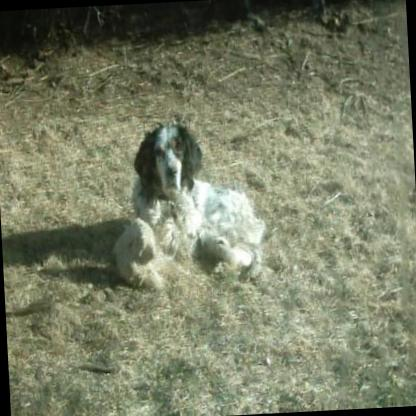English_setter: (102, 120, 266, 291)
